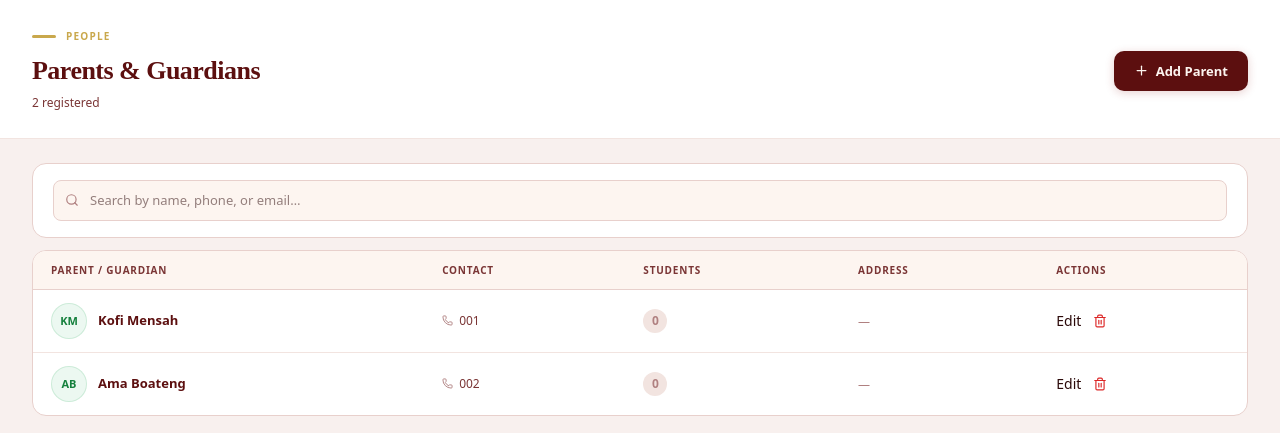
Scenario: Parents page › filters parents by search query
Check: the text "Kofi Mensah" is shown, box x1=98 y1=310 x2=178 y2=331
In the field with placeholder "Search by name, phone, or email…": x=640, y=200 x1=53 y1=180 x2=1227 y2=221, type "kofi"
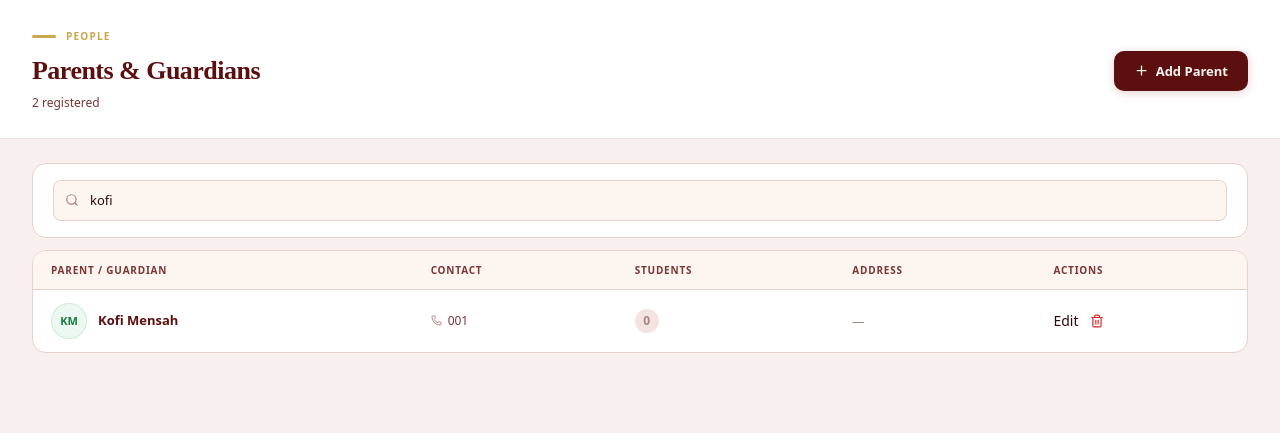
Check: the text "Kofi Mensah" is shown, box x1=98 y1=310 x2=178 y2=331
Check: the text "Ama Boateng" is gone
